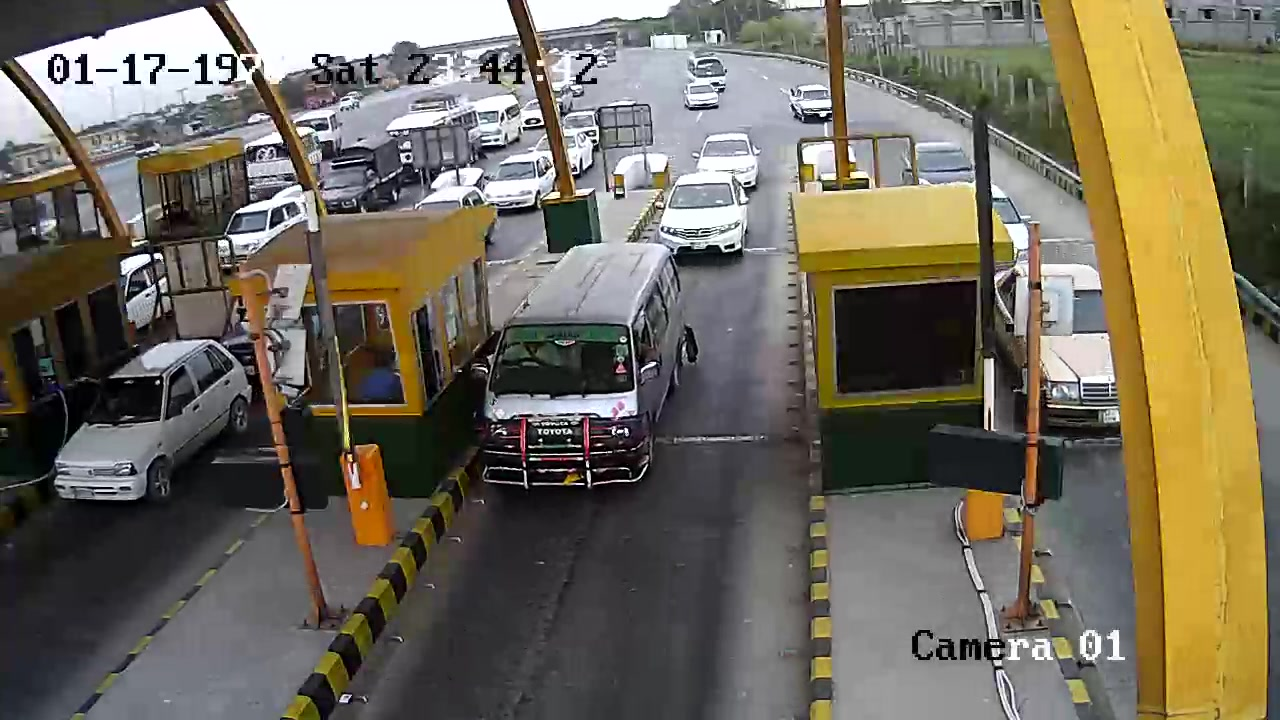F2: (460, 235, 700, 500)
